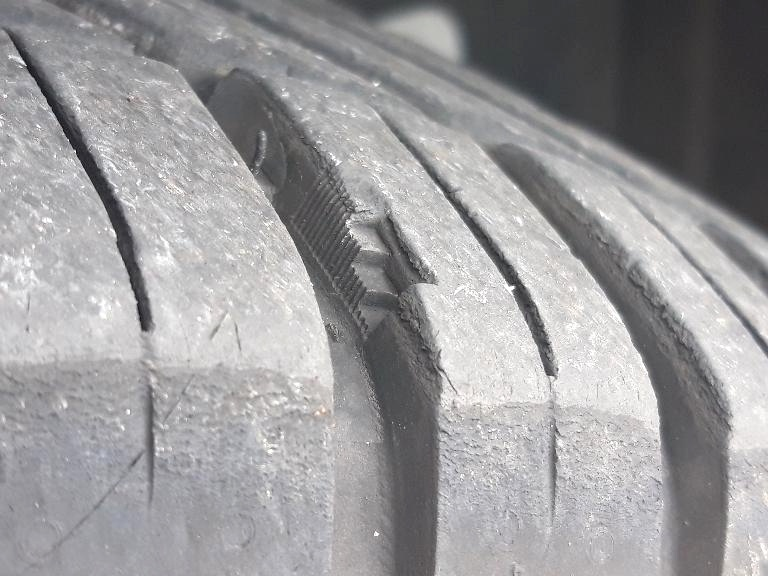temoin:80: (279, 146, 449, 349)
